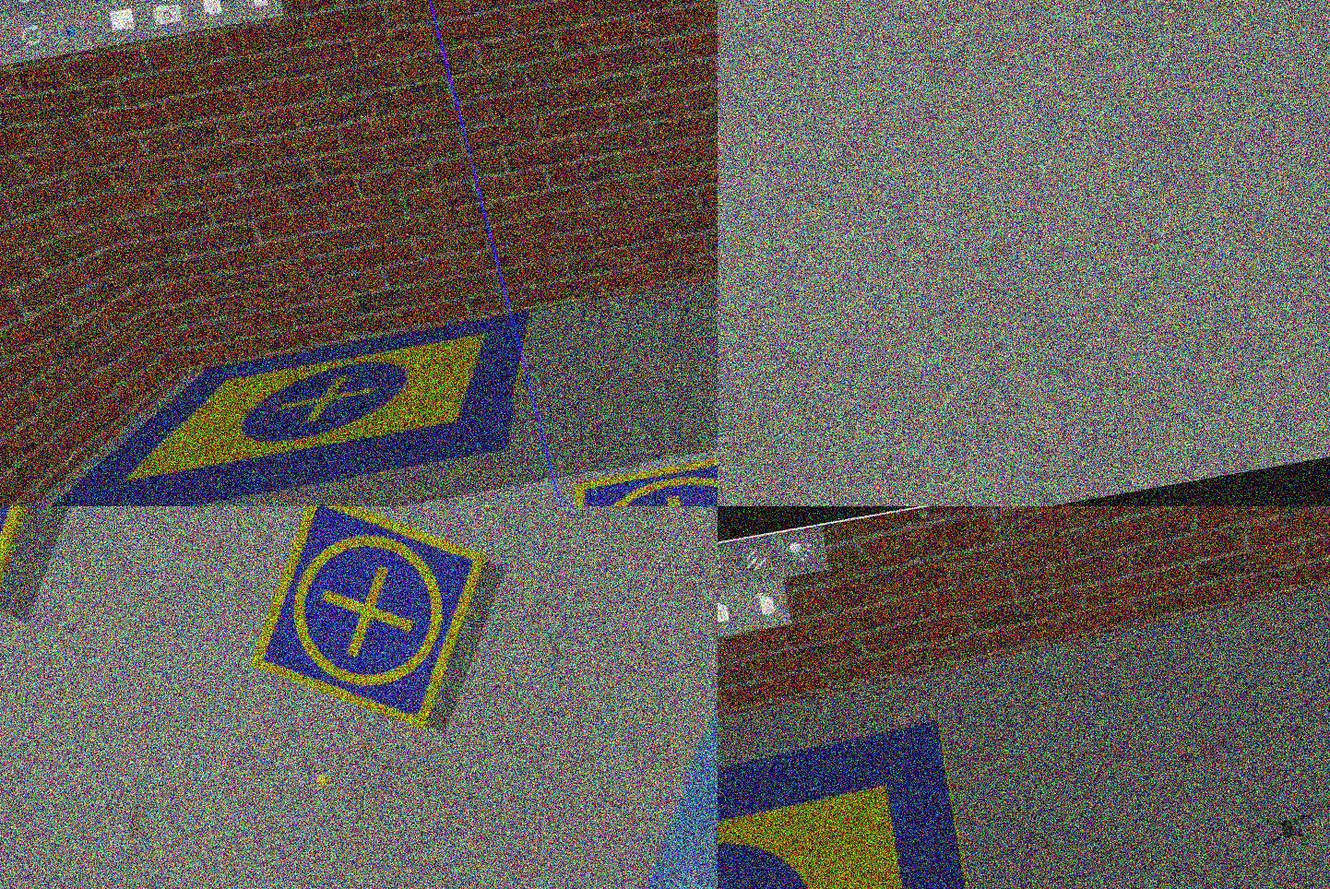large_base: (7, 308, 557, 506), (718, 719, 998, 889)
small_base: (225, 506, 513, 757), (1, 506, 69, 631)
